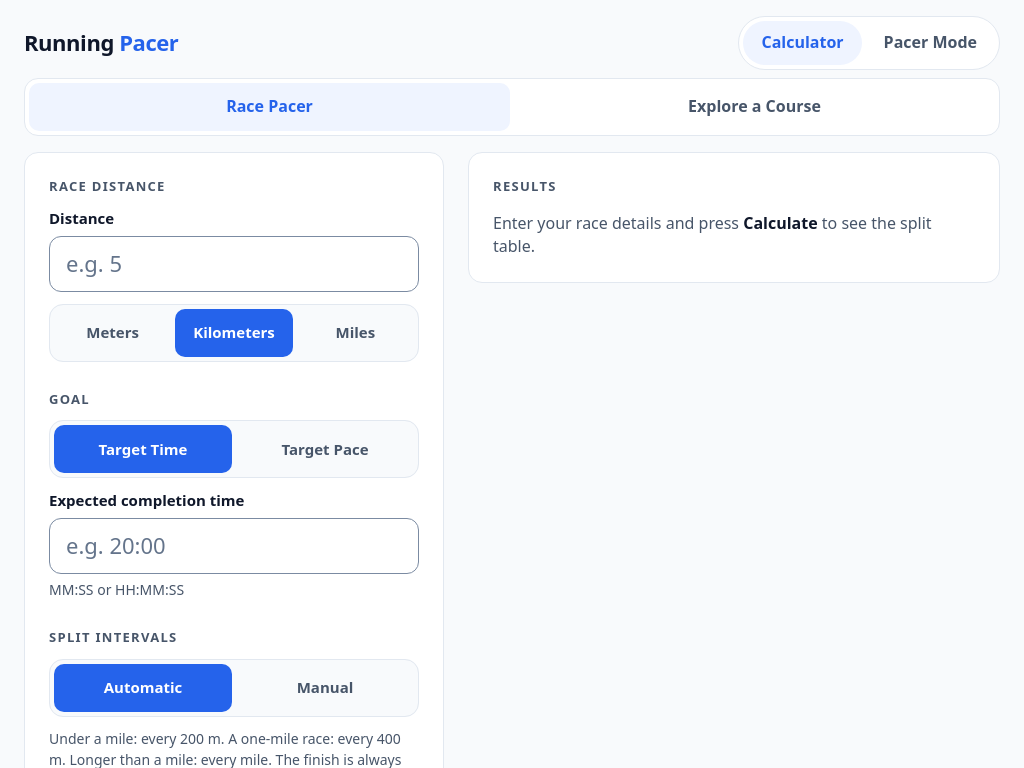
Test: before a race has been calculated › explains that a race must be calculated first, and offers no way to add locations
The width and height of the screenshot is (1024, 768).
Click the button "Pacer Mode" at (930, 43), box [866,21,995,65]
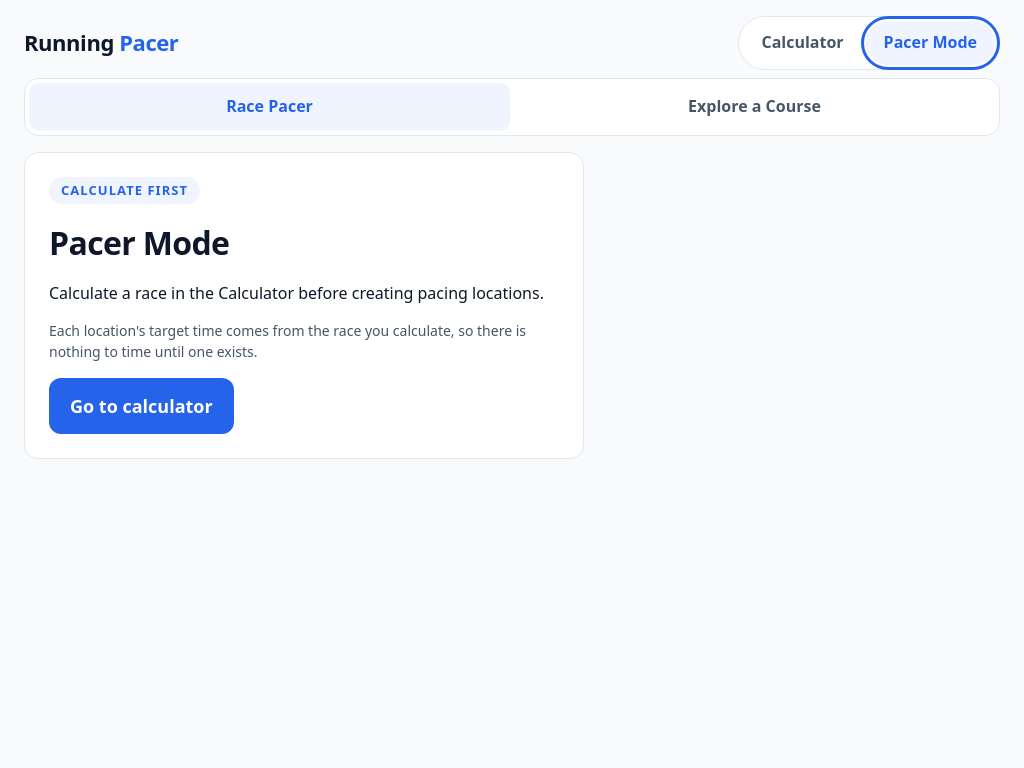
Check: the text "Calculate a race in the Calculator before creating pacing locations." is shown, box [49,282,544,305]
